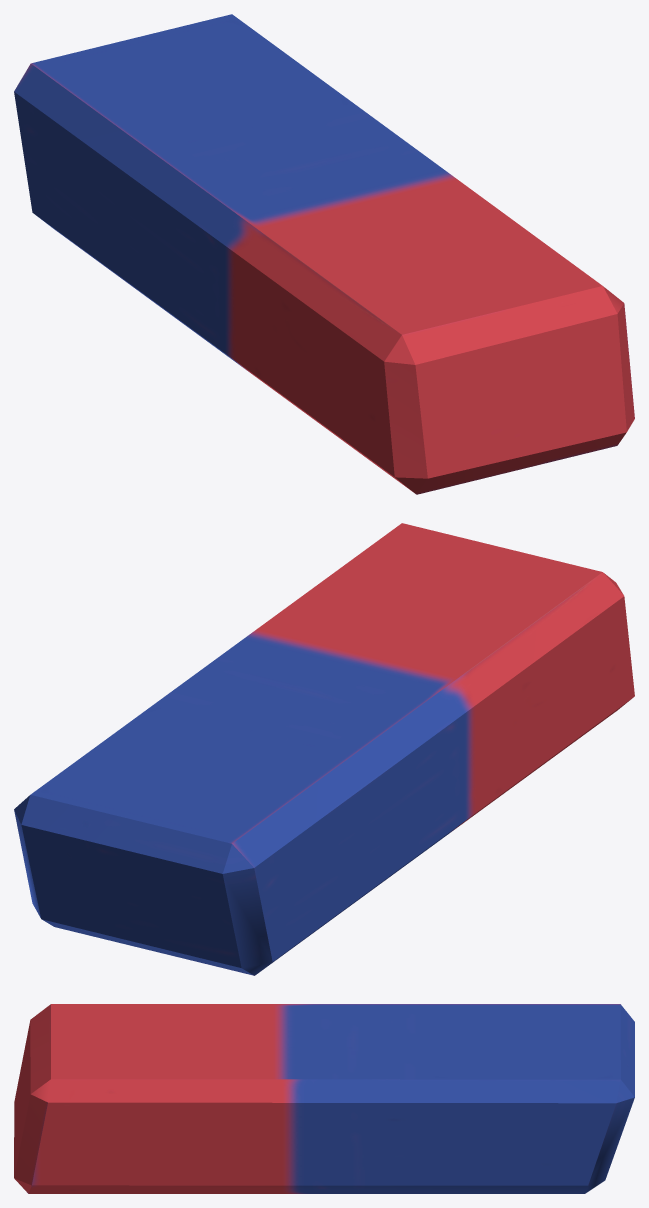
The model's file is EraserFBX.fbx.
3 views of the same model, one above another, from view 1: azimuth 30°, elevation 25°; view 2: azimuth 150°, elevation 25°; view 3: azimuth 270°, elevation 25° (orthographic). The views are drawn at different scales.
Visible parts, largest first — view 1: pCube1; view 2: pCube1; view 3: pCube1.
Part boxes in pixels (x1,y1,x2,y2): pCube1: [14, 14, 634, 494]; pCube1: [14, 523, 634, 975]; pCube1: [14, 1004, 634, 1193].
Bounding box in the file's own units: 1 × 0.5936 × 2.92.
1 material, 1 textured.
